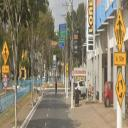Rotatoria: (115, 70, 126, 109)
speed_limit_30: (3, 74, 8, 90), (72, 69, 74, 78)
